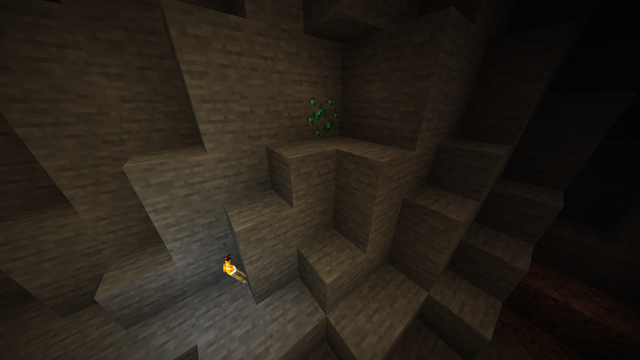emerald: (306, 94, 342, 139)
